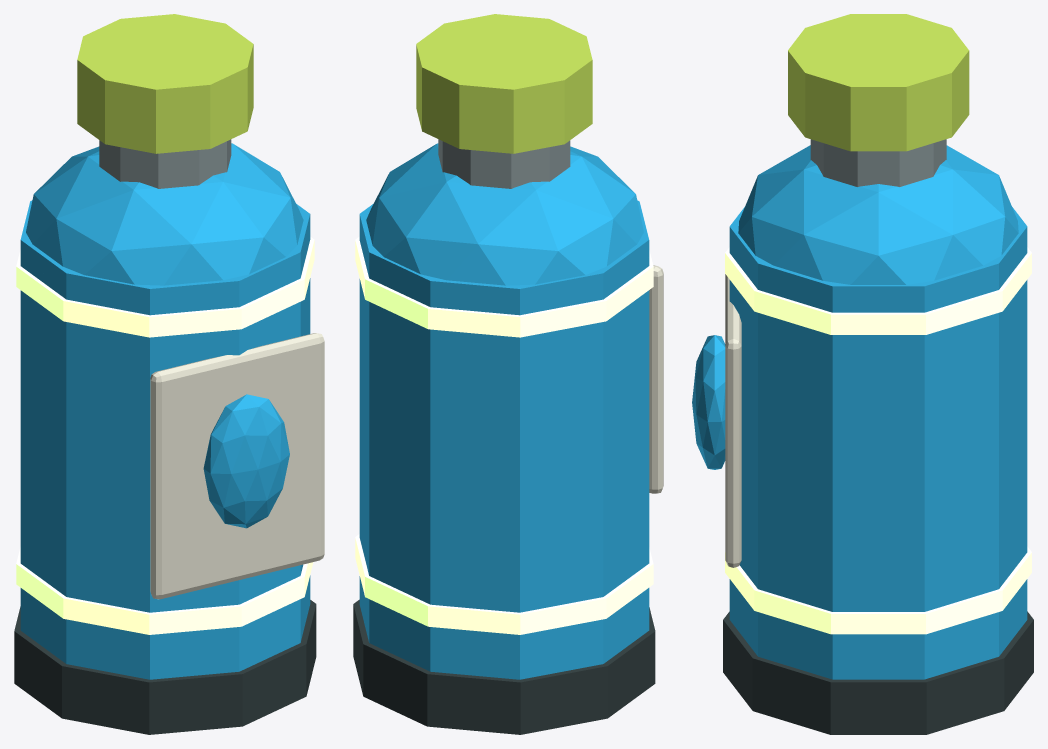
The model's file is boost-water.glb.
3 renders of one model, left to right at view 1: azimuth 30°, elevation 25°; view 2: azimuth 150°, elevation 25°; view 3: azimuth 270°, elevation 25°, orthographic.
Parts seen in each view (by area): view 1: Water flask body, Water label, Flask shoulder, Lime screw cap, Flask base, Water droplet, Bottle grip band.001, Bottle grip band, Flask neck; view 2: Water flask body, Flask shoulder, Lime screw cap, Flask base, Bottle grip band.001, Bottle grip band, Flask neck, Water label; view 3: Water flask body, Flask shoulder, Lime screw cap, Flask base, Bottle grip band.001, Bottle grip band, Water label, Flask neck, Water droplet.
Boxes of the visible parts, bbox=[...] form: Water flask body: bbox=[20, 200, 310, 679]; Water label: bbox=[150, 333, 324, 599]; Flask shoulder: bbox=[26, 143, 303, 285]; Lime screw cap: bbox=[77, 14, 253, 153]; Flask base: bbox=[14, 600, 316, 734]; Water droplet: bbox=[203, 394, 289, 528]; Bottle grip band.001: bbox=[16, 237, 314, 337]; Bottle grip band: bbox=[16, 547, 313, 634]; Flask neck: bbox=[99, 139, 231, 188]; Water flask body: bbox=[359, 200, 649, 679]; Flask shoulder: bbox=[366, 143, 643, 285]; Lime screw cap: bbox=[416, 14, 592, 153]; Flask base: bbox=[353, 599, 655, 734]; Bottle grip band.001: bbox=[355, 236, 653, 337]; Bottle grip band: bbox=[355, 534, 653, 634]; Flask neck: bbox=[438, 139, 570, 188]; Water label: bbox=[649, 265, 663, 493]; Water flask body: bbox=[729, 207, 1027, 679]; Flask shoulder: bbox=[738, 145, 1018, 284]; Lime screw cap: bbox=[788, 14, 969, 151]; Flask base: bbox=[723, 611, 1033, 734]; Bottle grip band.001: bbox=[725, 247, 1031, 334]; Bottle grip band: bbox=[725, 546, 1031, 634]; Water label: bbox=[725, 274, 741, 567]; Flask neck: bbox=[810, 139, 946, 186]; Water droplet: bbox=[692, 335, 725, 469].
Bounding box in the file's own units: 0.4565 × 1.06 × 0.528.
